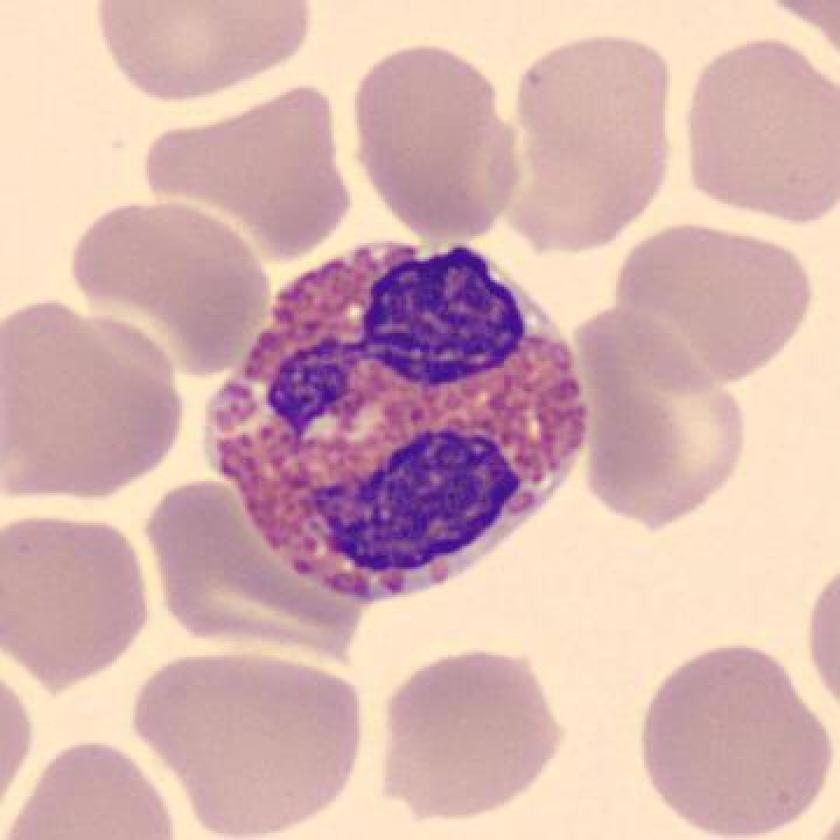eosinophil: (193, 228, 606, 610)
